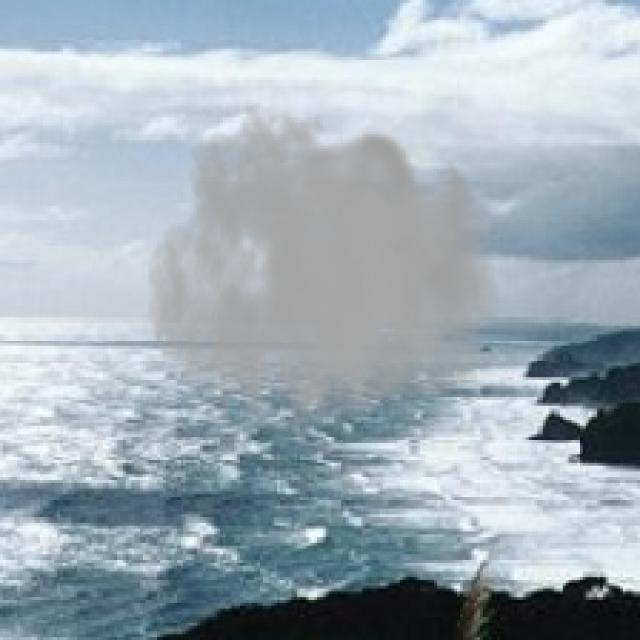Smoke: (145, 100, 500, 460)
